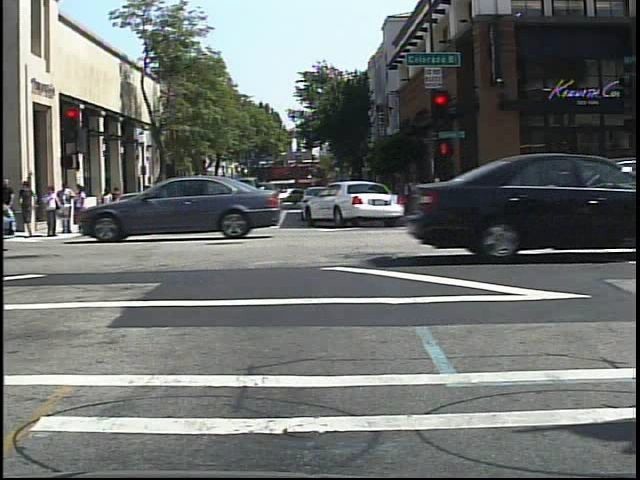person: (102, 186, 117, 225), (143, 181, 158, 213), (139, 181, 154, 212)
